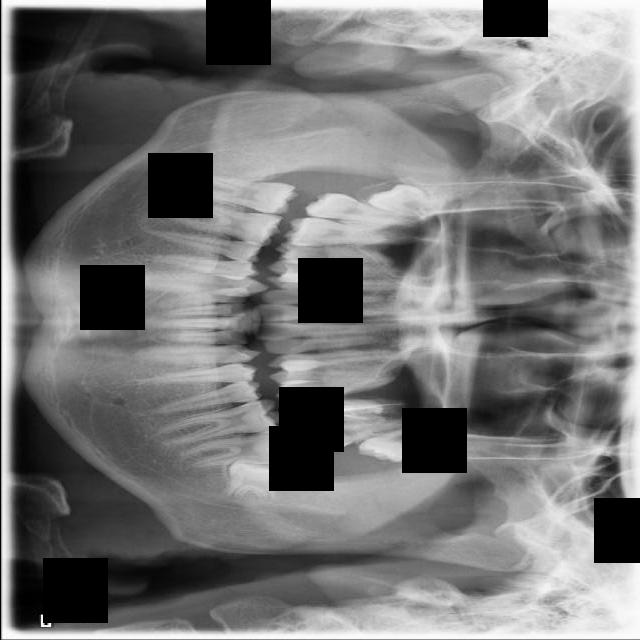3M ESPE Implant: (366, 177, 446, 222)
52: (278, 393, 330, 433)
73: (313, 397, 404, 426), (73, 597, 87, 605)
BioHorizons Implant: (298, 419, 419, 452)
BioLife Implant: (352, 421, 438, 471)
Biomet 3i Implant: (221, 457, 294, 505)
Blue Sky Bio Implant: (177, 427, 293, 470)
Caries: (302, 189, 422, 228)
Implant: (184, 172, 299, 217)
